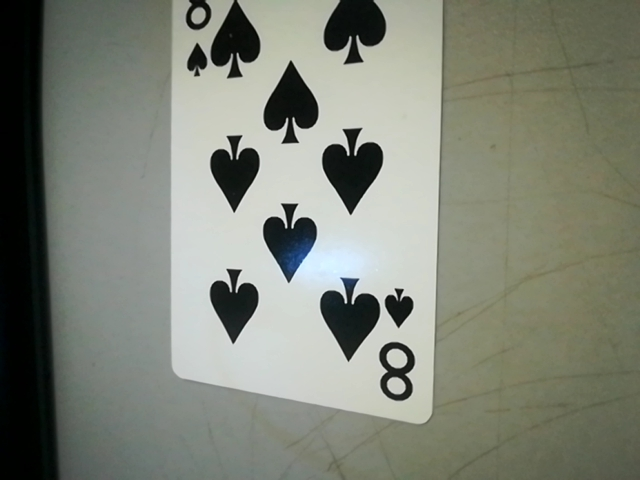ht 8: (372, 281, 432, 415)
